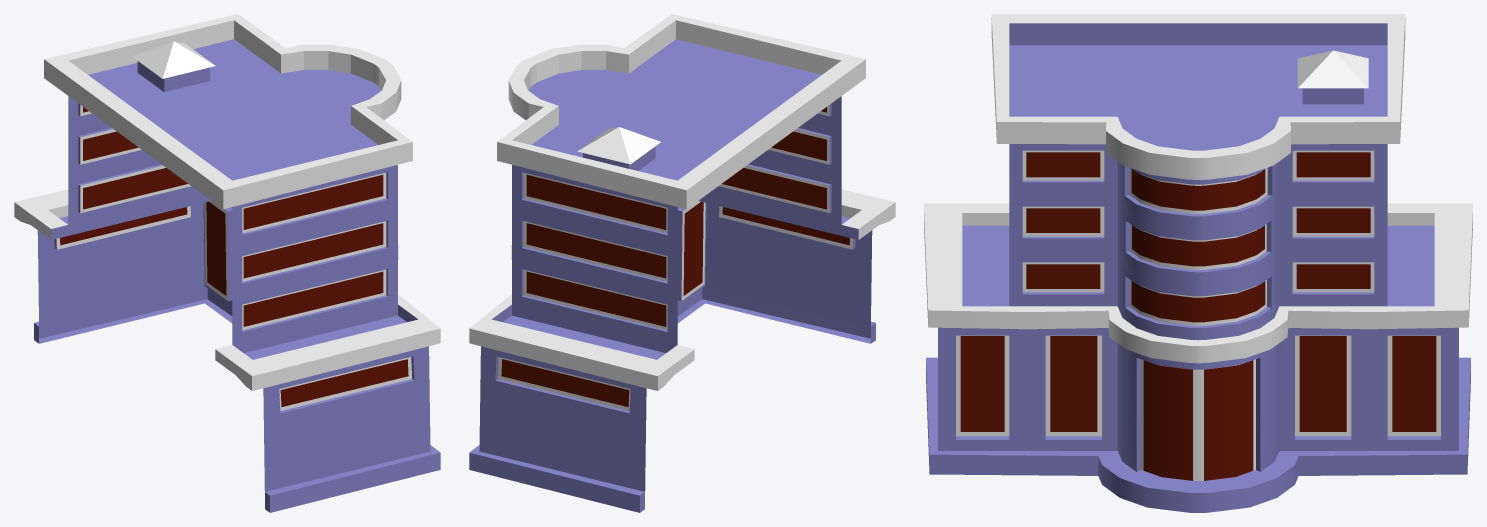
File: Bld_Ig.fbx
The picture shows the model from 3 angles, left to right: view 1: azimuth 30°, elevation 25°; view 2: azimuth 150°, elevation 25°; view 3: azimuth 270°, elevation 25°; orthographic projection. The views are drawn at different scales.
Visible parts, largest first — view 1: Cylinder; view 2: Cylinder; view 3: Cylinder.
Boxes of the visible parts, left/top/right/bottom form: Cylinder: left=14, top=14, right=440, bottom=512; Cylinder: left=469, top=14, right=895, bottom=512; Cylinder: left=924, top=14, right=1472, bottom=512.
Size of the model in its own units: 582 by 693 by 925.
